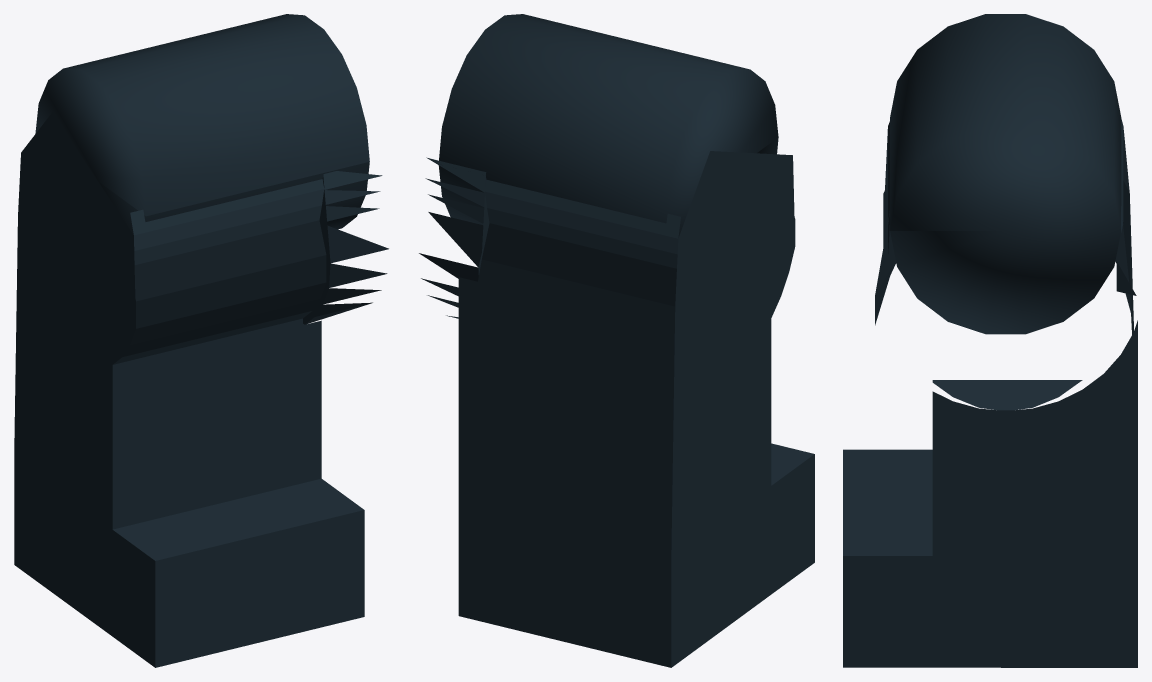
The model's file is legL.glb.
The picture shows the model from 3 angles, left to right: view 1: azimuth 30°, elevation 25°; view 2: azimuth 150°, elevation 25°; view 3: azimuth 270°, elevation 25°; orthographic projection. The views are drawn at different scales.
Visible parts, largest first — view 1: dex_legL; view 2: dex_legL; view 3: dex_legL.
Boxes of the visible parts, x1,y1,x2,y2 form: dex_legL: (14, 14, 388, 667); dex_legL: (419, 14, 814, 667); dex_legL: (843, 14, 1137, 667).
Size of the model in its own units: 0.3561 by 0.7237 by 0.3488.
